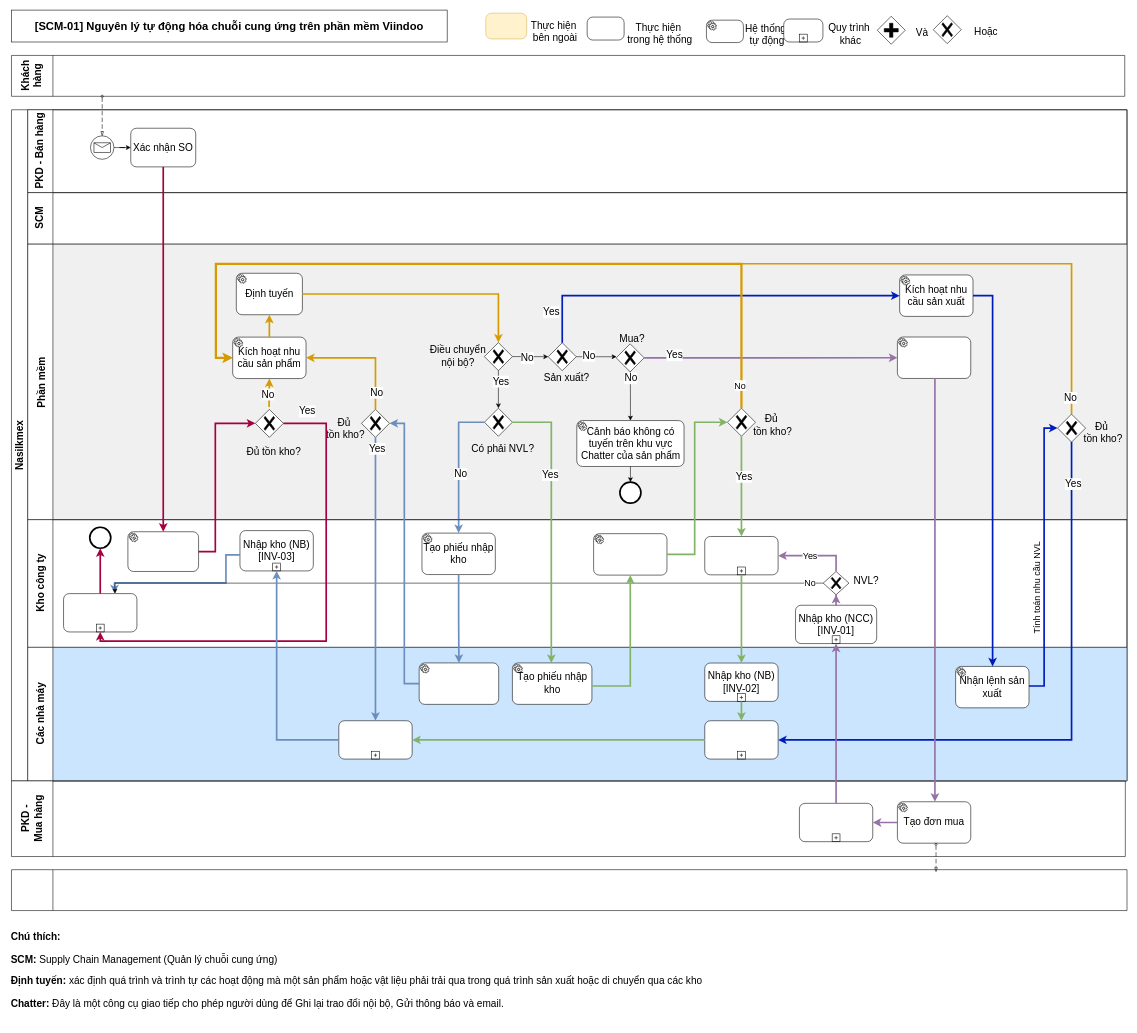
The diagram is 1137 pixels wide and 1033 high, and some of its shapes have lost their labels. The centre of each missing label's shape, as x and y in pixels:
Kích hoạt nhu cầu mua: the point at 934,357
Mua hàng [PUR-02]: the point at 836,822
Nhà cung cấp: the point at 569,890
Sản xuất: the point at 741,739
Tạo phiếu xuất: the point at 630,554
Tạo phiếu xuất kho: the point at 459,683
Tạo phiếu xuất kho (KH): the point at 163,551
Xuất kho (KH) [INV-04]: the point at 100,612
Xuất kho (NB)[INV-02]: the point at 741,555
Xuất kho (NB)[INV-03]: the point at 375,739
